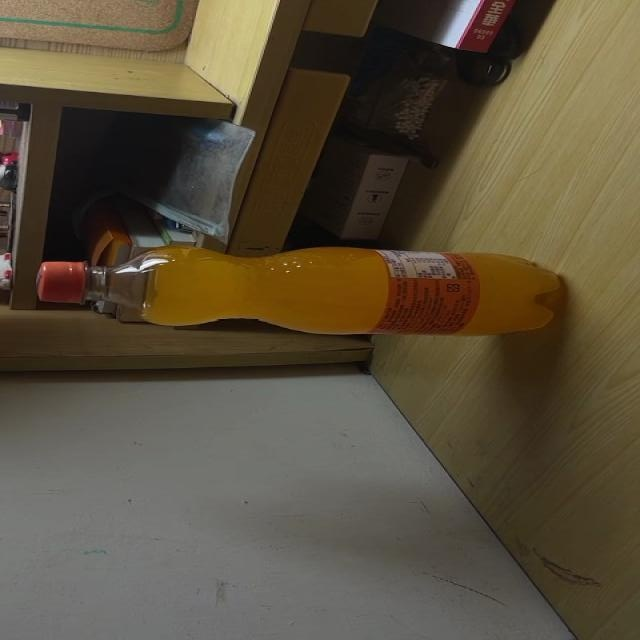Fanta: (36, 245, 561, 337)
